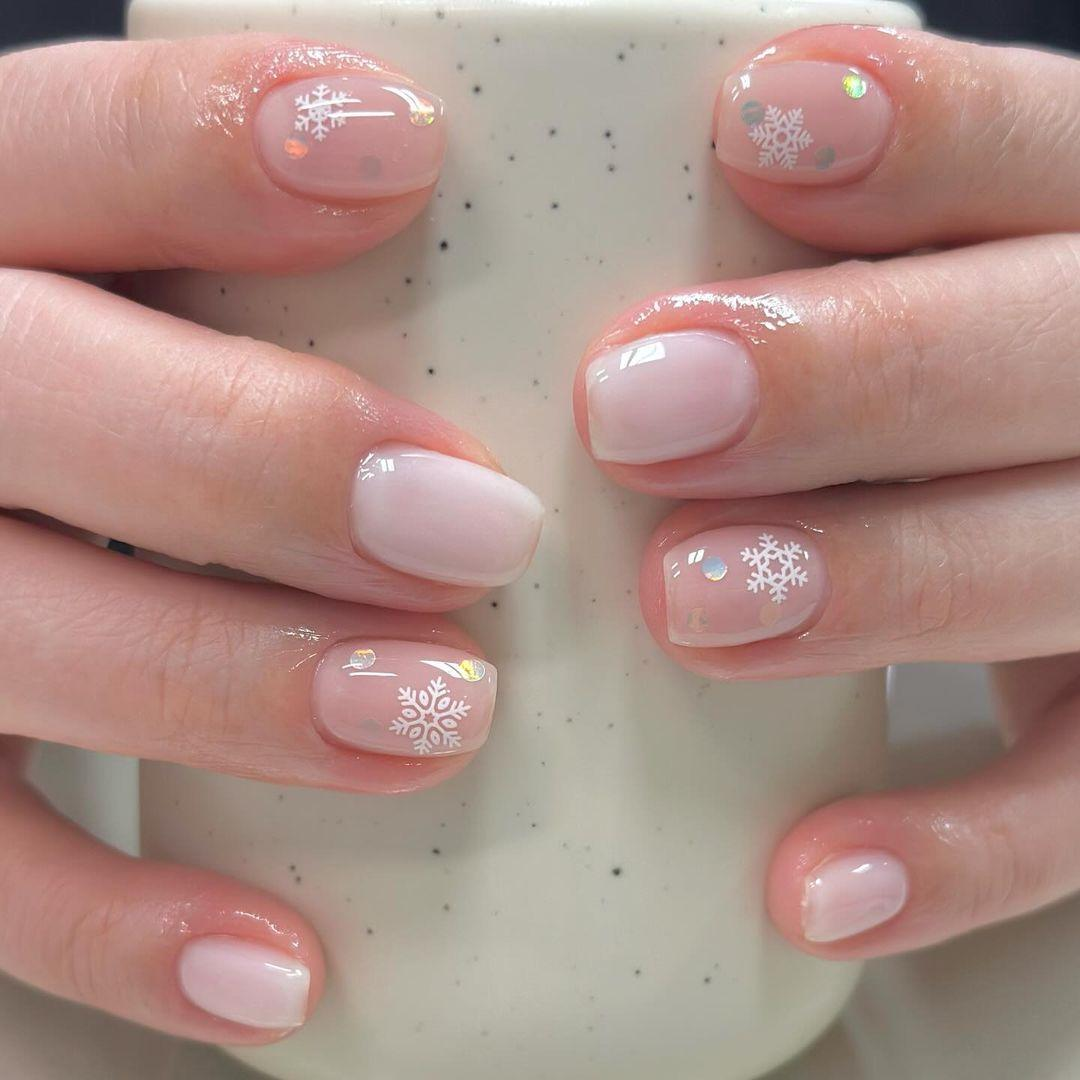nail: (346, 440, 545, 588), (249, 65, 447, 206), (580, 325, 761, 466), (711, 54, 896, 187), (308, 634, 498, 758), (661, 520, 830, 649), (175, 931, 311, 1031), (798, 845, 909, 944)
